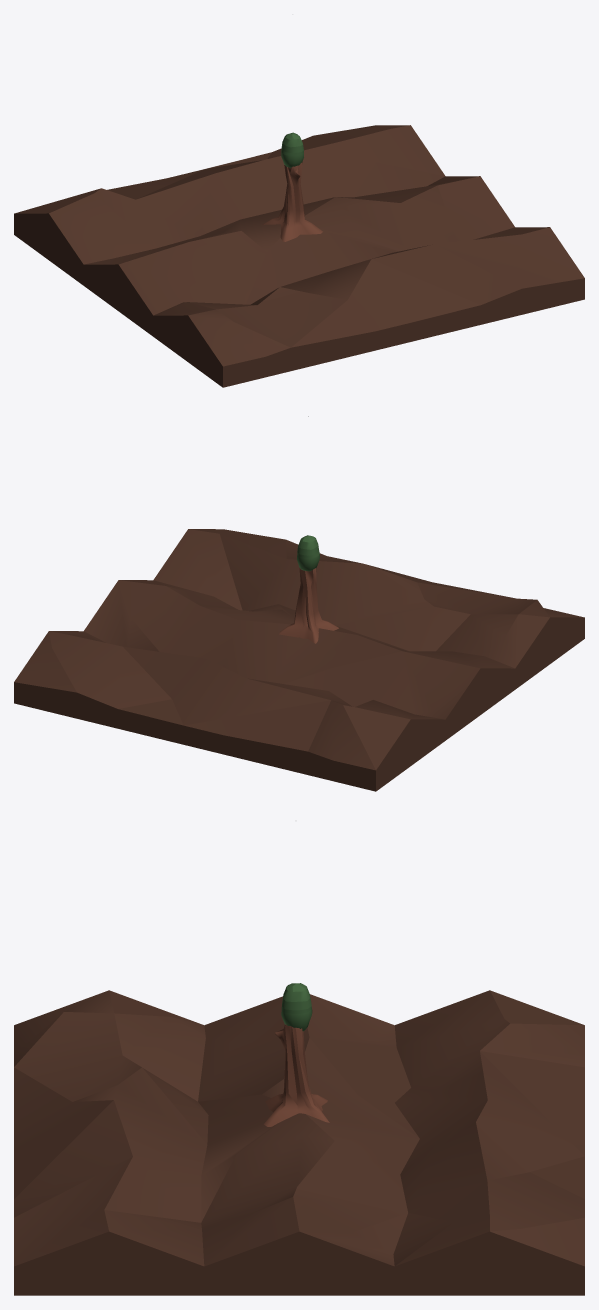
The model's file is arvore animacao3.fbx.
The picture shows the model from 3 angles, top to bottom: view 1: azimuth 30°, elevation 25°; view 2: azimuth 150°, elevation 25°; view 3: azimuth 270°, elevation 25°; orthographic projection. The views are drawn at different scales.
Visible parts, largest first — view 1: Mud_Patch_H, broto, Arvore Jovem; view 2: Mud_Patch_H, broto, Arvore Jovem; view 3: Mud_Patch_H, broto, Arvore Jovem.
Part boxes in pixels (bbox=[...]): Mud_Patch_H: bbox=[14, 125, 584, 387]; broto: bbox=[262, 161, 322, 241]; Arvore Jovem: bbox=[281, 132, 303, 167]; Mud_Patch_H: bbox=[14, 529, 584, 791]; broto: bbox=[279, 567, 338, 643]; Arvore Jovem: bbox=[297, 535, 319, 571]; Mud_Patch_H: bbox=[14, 990, 584, 1295]; broto: bbox=[264, 1024, 329, 1126]; Arvore Jovem: bbox=[281, 983, 312, 1031].
Bounding box in the file's own units: 147 × 99.02 × 147.
